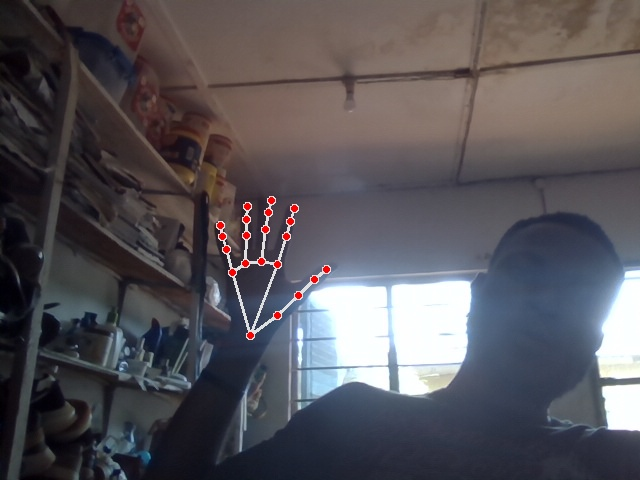no: (214, 196, 338, 344)
